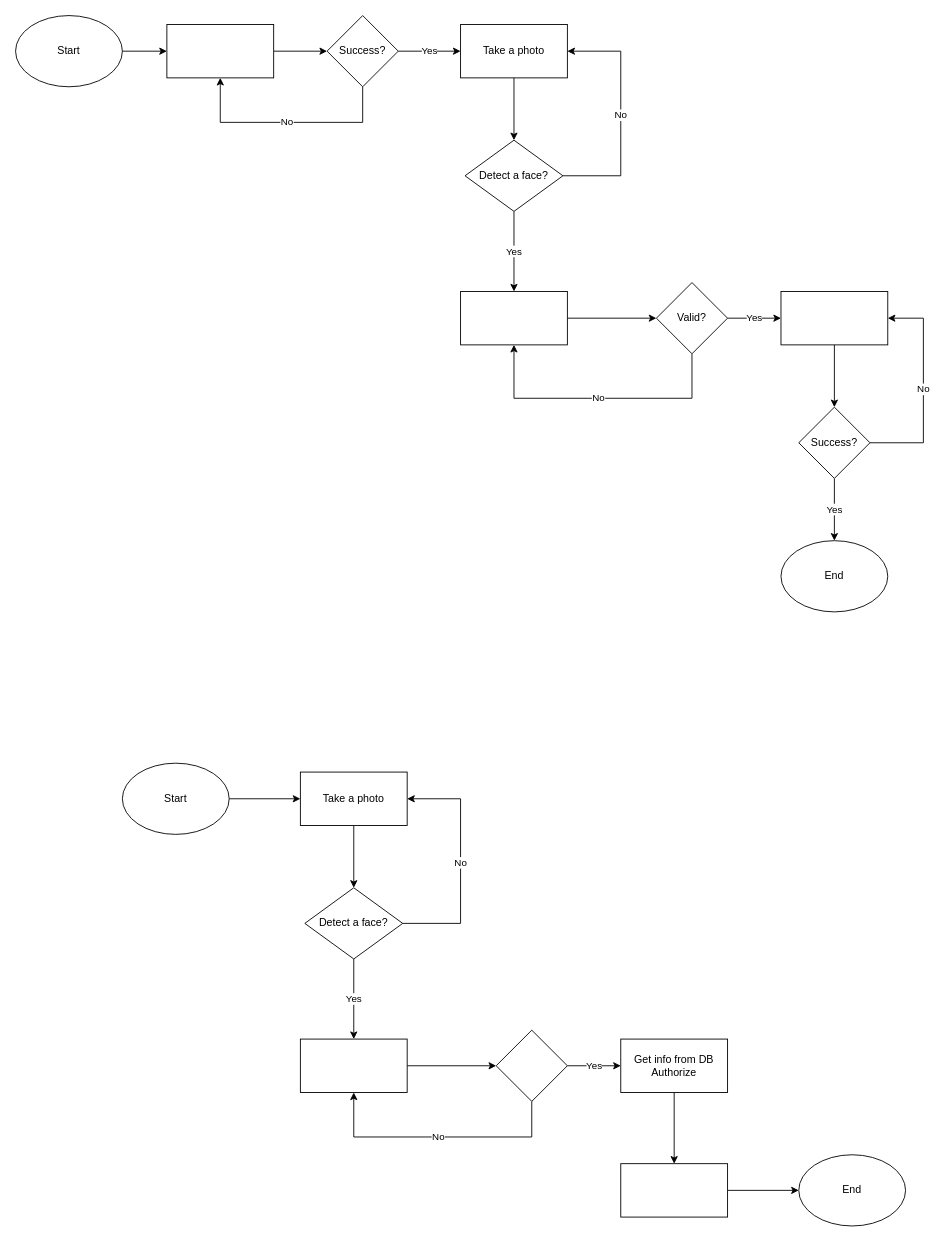
This 946x1242 diagram has some shape labels left out. The shapes that lost their labels are listed below. From the top down, each one's box as (x1, y1, x2, y2) in pixels, then its label:
(166, 24, 274, 78): Login
(460, 291, 567, 345): Input register info
(780, 291, 888, 345): Store metadata in DB Save photo to storage
(299, 1038, 407, 1092): Compare face data
(495, 1029, 567, 1101): Exist?
(620, 1163, 728, 1217): Check attendance Save log
